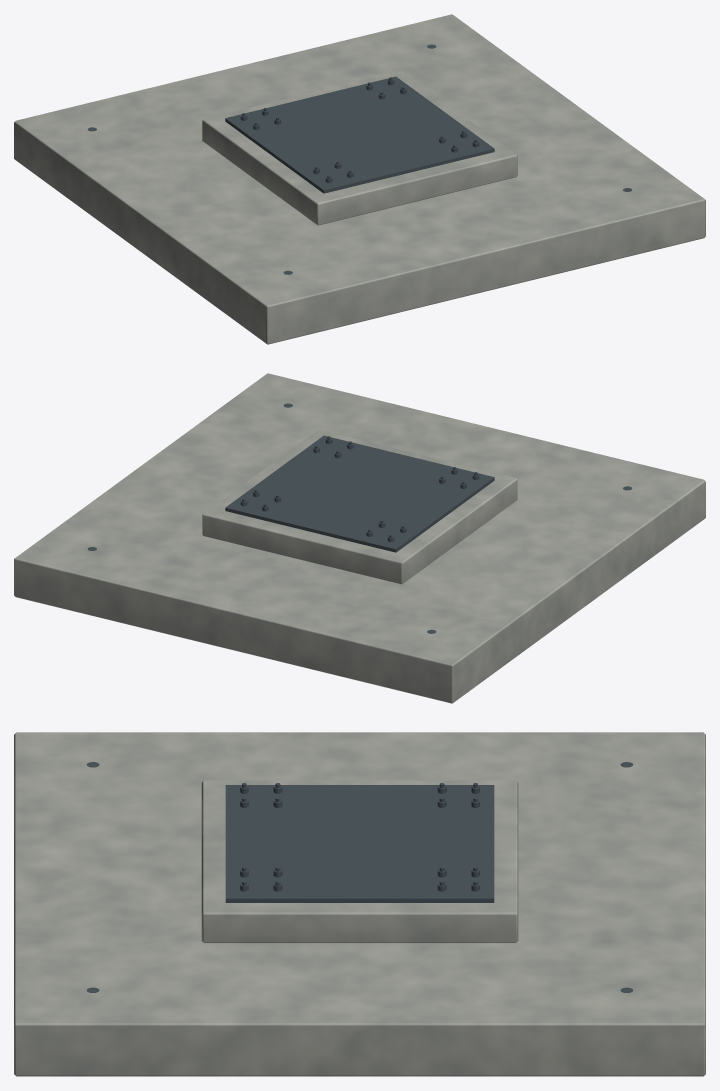
Rendered from tower_foundation.glb.
3 views of the same model, one above another, from view 1: azimuth 30°, elevation 25°; view 2: azimuth 150°, elevation 25°; view 3: azimuth 270°, elevation 25° (orthographic). The views are drawn at different scales.
Visible parts, largest first — view 1: tower_foundation; view 2: tower_foundation; view 3: tower_foundation.
Part boxes in pixels (box(x1,y1,x2,y2)): tower_foundation: box(14, 14, 705, 344); tower_foundation: box(14, 373, 705, 703); tower_foundation: box(14, 732, 705, 1076).
Size of the model in its own units: 7 by 1.1 by 7.
2 materials, 1 textured.
